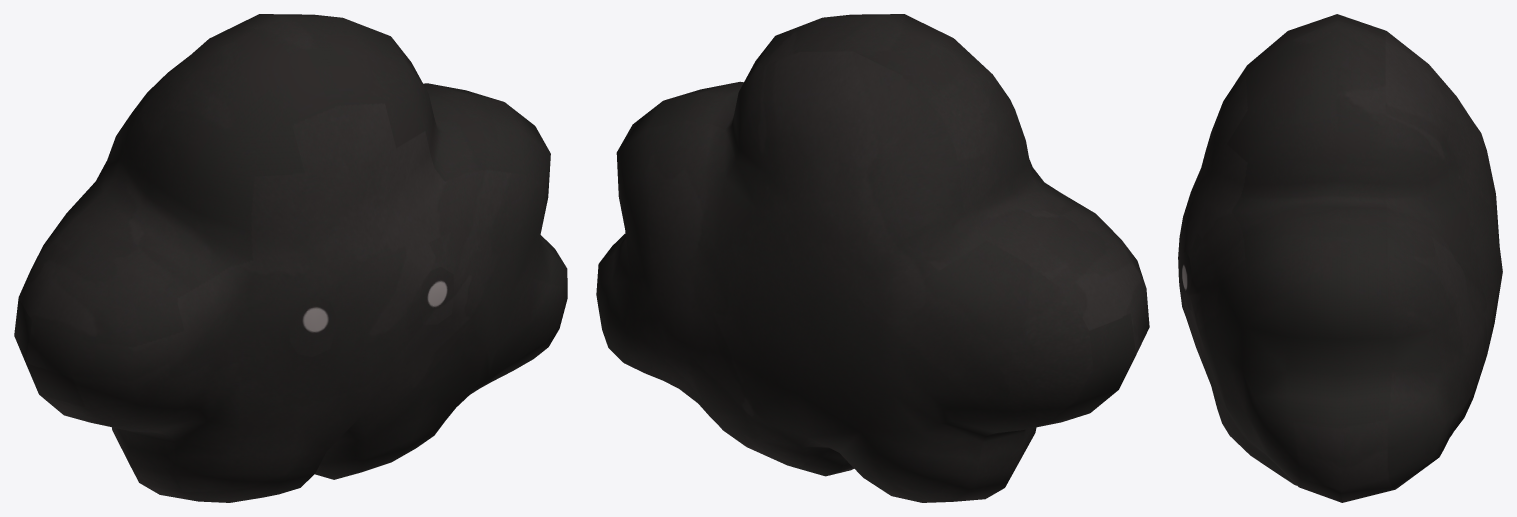
Rendered from mise.fbx.
The picture shows the model from 3 angles, left to right: view 1: azimuth 30°, elevation 25°; view 2: azimuth 150°, elevation 25°; view 3: azimuth 270°, elevation 25°; orthographic projection. The views are drawn at different scales.
Visible parts, largest first — view 1: mise; view 2: mise; view 3: mise.
Part boxes in pixels (box(x1,y1,x2,y2)): mise: box(14, 14, 567, 502); mise: box(596, 14, 1149, 502); mise: box(1178, 14, 1502, 502).
Size of the model in its own units: 130 by 109 by 73.68.
